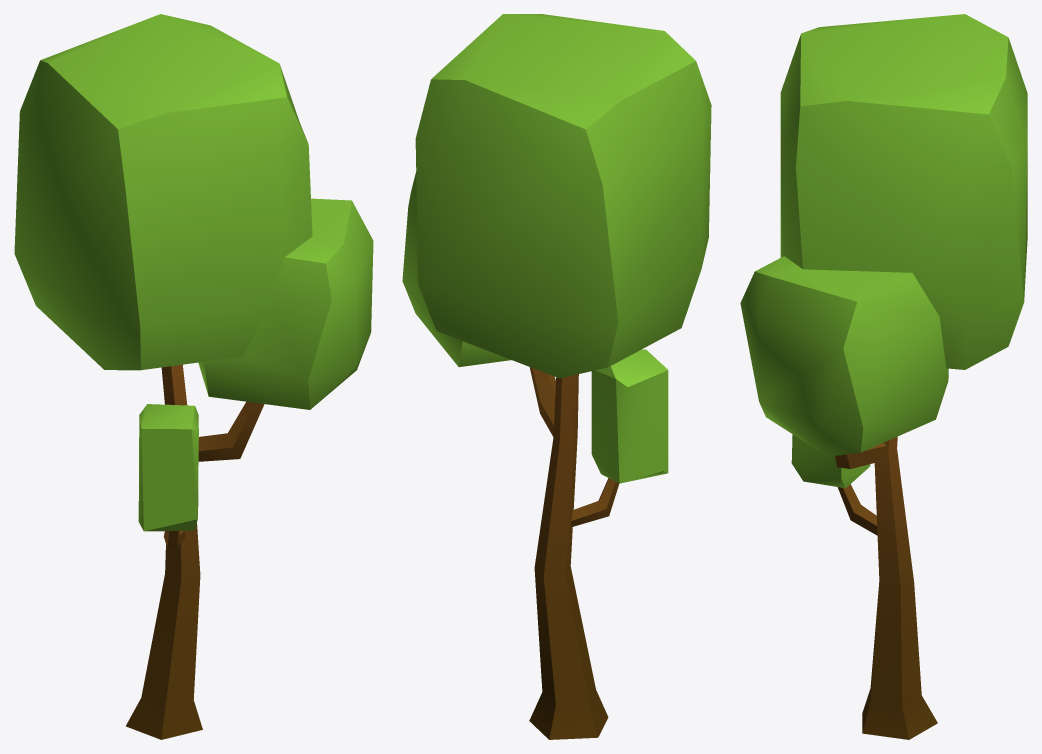
The model's file is Tree_Maple_2.fbx.
3 views of the same model, side by side, from view 1: azimuth 30°, elevation 25°; view 2: azimuth 150°, elevation 25°; view 3: azimuth 270°, elevation 25° (orthographic). The views are drawn at different scales.
Visible parts, largest first — view 1: Tree_Maple_2; view 2: Tree_Maple_2; view 3: Tree_Maple_2.
Boxes of the visible parts, left/top/right/bottom form: Tree_Maple_2: left=14, top=14, right=373, bottom=739; Tree_Maple_2: left=402, top=14, right=711, bottom=739; Tree_Maple_2: left=740, top=14, right=1027, bottom=739.
Size of the model in its own units: 1.7 by 3.77 by 1.46.
